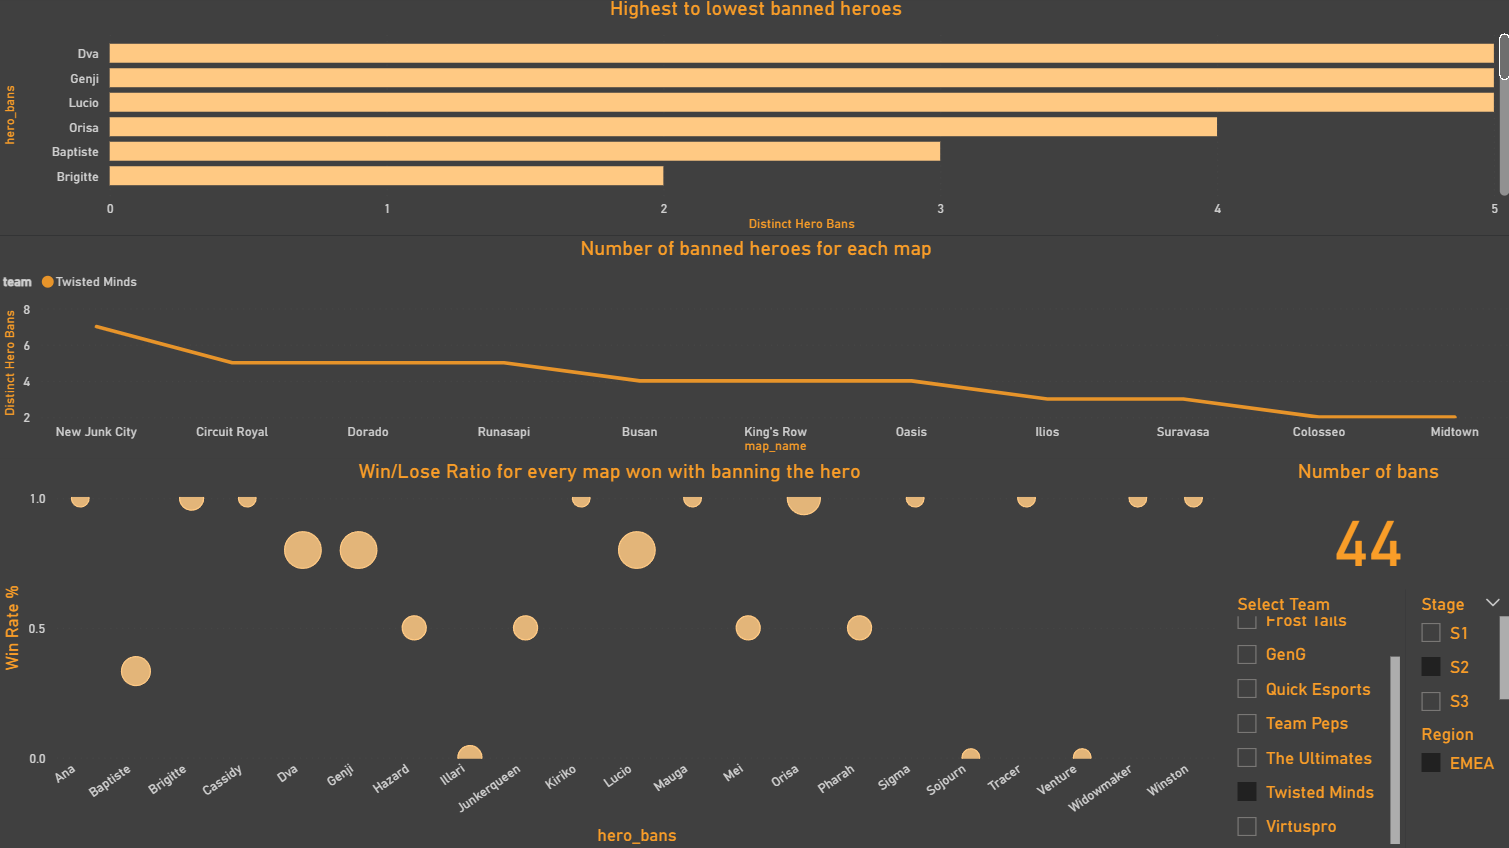

Layout of this report page (visuals, bound fields, positions):
{"tool":"powerbi","page":{"name":"Hero bans","canvas":[1280,720],"ordinal":3},"visuals":[{"type":"card","title":"Number of bans","fields":{"Values":["faceit_all_matches_emea_na_all_stages (2).Distinct Total Bans"]},"box":[1032.9,390,247.1,109.9],"z":0},{"type":"slicer","fields":{"Values":["faceit_all_matches_emea_na_all_stages (2).region"]},"box":[1187.6,609.8,92.4,109.9],"z":1000},{"type":"slicer","fields":{"Values":["faceit_all_matches_emea_na_all_stages (2).stage"]},"box":[1187.6,499.9,92.4,109.9],"z":2000},{"type":"slicer","fields":{"Values":["faceit_all_matches_emea_na_all_stages (2).team"]},"box":[1032.9,499.9,154.7,219.8],"z":3000},{"type":"clusteredBarChart","title":"Highest to lowest banned heroes","fields":{"Category":["faceit_all_matches_emea_na_all_stages (2).hero_bans"],"Y":["faceit_all_matches_emea_na_all_stages (2).Distinct Hero Bans"]},"box":[0,0,1280,202.3],"z":4000},{"type":"lineChart","title":"Number of banned heroes for each map","fields":{"Y":["faceit_all_matches_emea_na_all_stages (2).Distinct Hero Bans"],"Series":["faceit_all_matches_emea_na_all_stages (2).team"],"Category":["faceit_all_matches_emea_na_all_stages (2).map_name"]},"box":[0,202.3,1280,187.7],"z":5000},{"type":"scatterChart","title":"Win/Lose Ratio for every map won with banning the hero","fields":{"Y":["faceit_all_matches_emea_na_all_stages (2).Win Rate %"],"X":["faceit_all_matches_emea_na_all_stages (2).hero_bans"],"Size":["Count(faceit_all_matches_emea_na_all_stages (2).match_id)"]},"box":[0,390,1032.9,329.7],"z":6000}]}

Visuals, with their boxes in screenshot pixels (x1, y1, x2, y2), scaled from the page's 1280x720 canvas onto the 1509x848 screenshot:
"Number of bans" card: (x1=1218, y1=459, x2=1508, y2=589)
slicer - faceit_all_matches_emea_na_all_stages (2).region: (x1=1400, y1=718, x2=1508, y2=847)
slicer - faceit_all_matches_emea_na_all_stages (2).stage: (x1=1400, y1=589, x2=1508, y2=718)
slicer - faceit_all_matches_emea_na_all_stages (2).team: (x1=1218, y1=589, x2=1400, y2=847)
"Highest to lowest banned heroes" clusteredBarChart: (x1=0, y1=0, x2=1508, y2=238)
"Number of banned heroes for each map" lineChart: (x1=0, y1=238, x2=1508, y2=459)
"Win/Lose Ratio for every map won with banning the hero" scatterChart: (x1=0, y1=459, x2=1218, y2=847)
